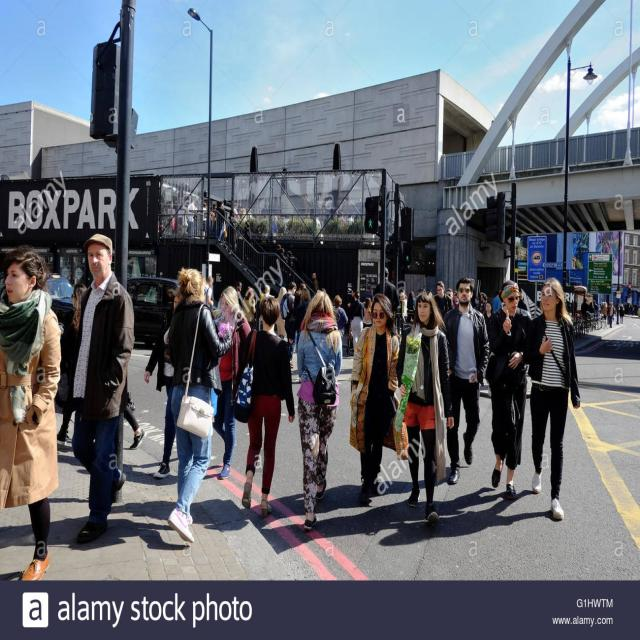body: (150, 261, 546, 360), (58, 231, 136, 548), (0, 243, 63, 582), (167, 266, 235, 547), (150, 195, 386, 260), (230, 295, 296, 520), (393, 292, 455, 528), (526, 273, 584, 524), (291, 288, 344, 532), (348, 292, 402, 504), (486, 279, 537, 503), (440, 274, 491, 488), (211, 284, 253, 481), (143, 287, 184, 480), (54, 283, 88, 447), (162, 289, 185, 480), (116, 382, 144, 455), (575, 287, 640, 318), (348, 294, 367, 353), (600, 231, 622, 276), (376, 266, 396, 314), (432, 280, 454, 320), (332, 295, 348, 336), (607, 301, 615, 328), (580, 297, 590, 318), (619, 302, 625, 326), (602, 301, 608, 320), (587, 301, 595, 314), (592, 300, 599, 312)
